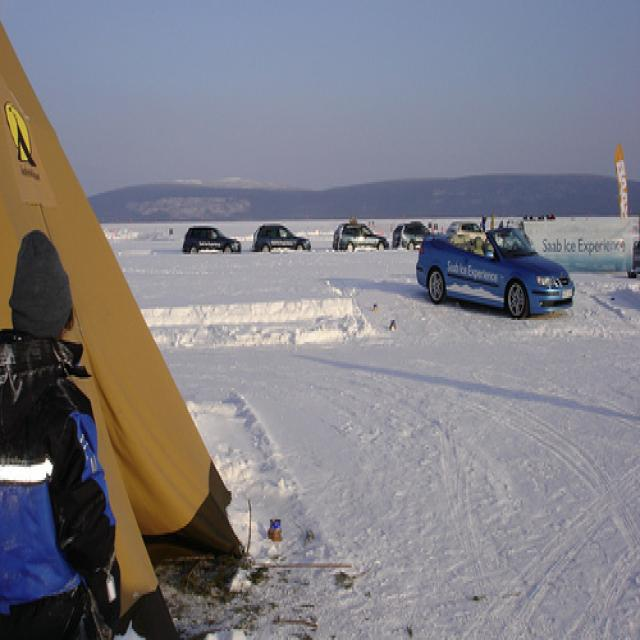light_vehicle: (414, 224, 574, 320), (250, 221, 311, 252), (332, 222, 391, 254), (182, 224, 240, 256), (390, 221, 434, 250)
